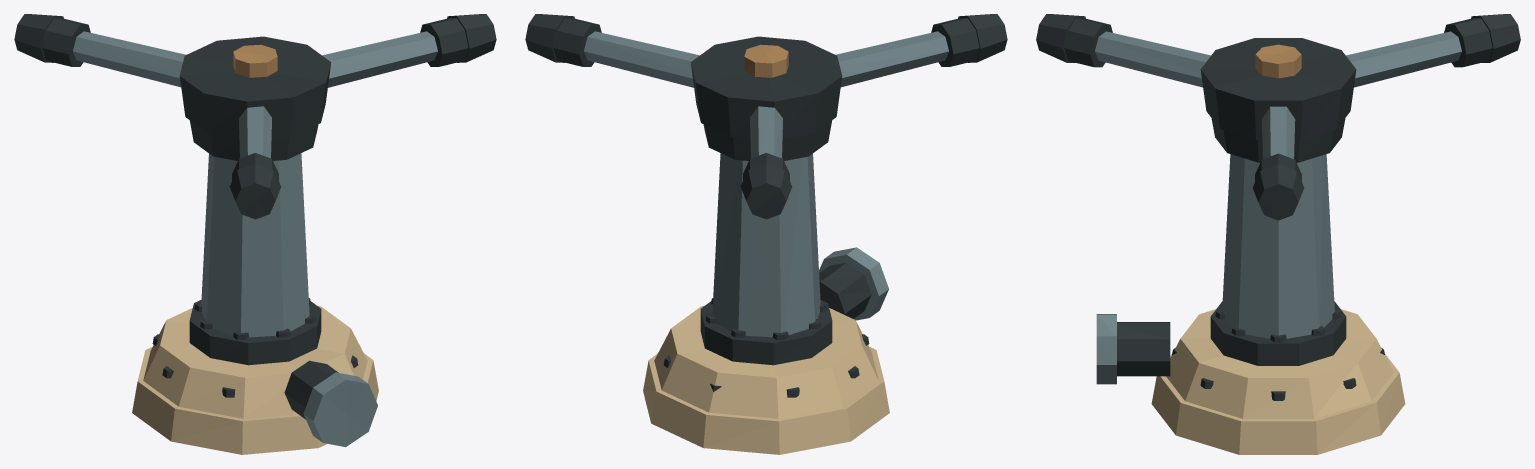
Rendered from Rotary-Sprinkler.glb.
3 views of the same model, side by side, from view 1: azimuth 30°, elevation 25°; view 2: azimuth 150°, elevation 25°; view 3: azimuth 270°, elevation 25° (orthographic).
Parts seen in each view (by area): view 1: rotary-sprinkler-static-rotary-sprinkler-blue-gray-metal-mat, rotary-sprinkler-static-rotary-sprinkler-charcoal-metal-mat, rotary-sprinkler-static-rotary-sprinkler-stone-base-mat, rotary-sprinkler-static-rotary-sprinkler-brass-pivot-mat; view 2: rotary-sprinkler-static-rotary-sprinkler-charcoal-metal-mat, rotary-sprinkler-static-rotary-sprinkler-blue-gray-metal-mat, rotary-sprinkler-static-rotary-sprinkler-stone-base-mat, rotary-sprinkler-static-rotary-sprinkler-brass-pivot-mat; view 3: rotary-sprinkler-static-rotary-sprinkler-charcoal-metal-mat, rotary-sprinkler-static-rotary-sprinkler-blue-gray-metal-mat, rotary-sprinkler-static-rotary-sprinkler-stone-base-mat, rotary-sprinkler-static-rotary-sprinkler-brass-pivot-mat.
Part boxes in pixels (x1,y1,x2,y2): rotary-sprinkler-static-rotary-sprinkler-blue-gray-metal-mat: (73,31,437,447); rotary-sprinkler-static-rotary-sprinkler-charcoal-metal-mat: (14,14,496,419); rotary-sprinkler-static-rotary-sprinkler-stone-base-mat: (132,305,378,454); rotary-sprinkler-static-rotary-sprinkler-brass-pivot-mat: (233,44,277,77); rotary-sprinkler-static-rotary-sprinkler-charcoal-metal-mat: (525,14,1007,397); rotary-sprinkler-static-rotary-sprinkler-blue-gray-metal-mat: (584,31,948,337); rotary-sprinkler-static-rotary-sprinkler-stone-base-mat: (643,305,889,454); rotary-sprinkler-static-rotary-sprinkler-brass-pivot-mat: (744,44,788,77); rotary-sprinkler-static-rotary-sprinkler-charcoal-metal-mat: (1036,14,1520,400); rotary-sprinkler-static-rotary-sprinkler-blue-gray-metal-mat: (1095,31,1461,384); rotary-sprinkler-static-rotary-sprinkler-stone-base-mat: (1151,309,1405,454); rotary-sprinkler-static-rotary-sprinkler-brass-pivot-mat: (1255,44,1301,78).
Size of the model in its own units: 1.46 by 1.34 by 1.68.
